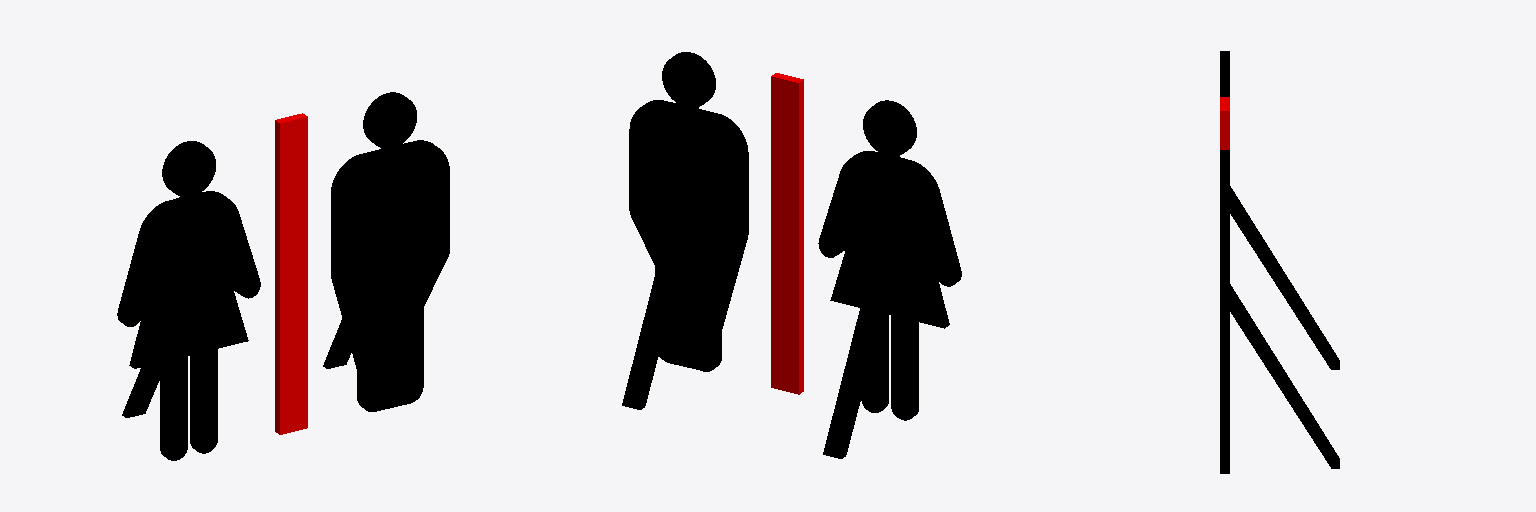
File: 2ptd04oddxx5.obj
The picture shows the model from 3 angles: view 1: azimuth 30°, elevation 25°; view 2: azimuth 150°, elevation 25°; view 3: azimuth 270°, elevation 25°; orthographic projection.
Visible parts, largest first — view 1: Male, Female, Complement_01, Complement_02, Complement_03; view 2: Male, Female, Complement_01, Complement_03, Complement_02; view 3: Male, Complement_03, Complement_02, Complement_01.
Part boxes in pixels (bbox=[...]): Male: bbox=[331, 92, 449, 411]; Female: bbox=[117, 141, 260, 460]; Complement_01: bbox=[275, 113, 307, 434]; Complement_02: bbox=[122, 363, 159, 417]; Complement_03: bbox=[323, 319, 351, 368]; Male: bbox=[629, 52, 748, 371]; Female: bbox=[818, 100, 961, 420]; Complement_01: bbox=[771, 73, 803, 394]; Complement_03: bbox=[622, 189, 695, 409]; Complement_02: bbox=[823, 238, 896, 458]; Male: bbox=[1220, 150, 1229, 473]; Complement_03: bbox=[1230, 284, 1339, 468]; Complement_02: bbox=[1230, 186, 1339, 369]; Complement_01: bbox=[1220, 97, 1229, 149].
Size of the model in its own units: 19.23 by 17.5 by 6.14.